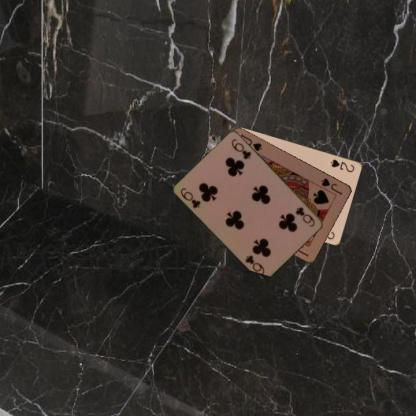2s: (328, 156, 356, 173)
6c: (178, 185, 202, 210), (293, 205, 317, 228)
Js: (319, 175, 344, 196)
